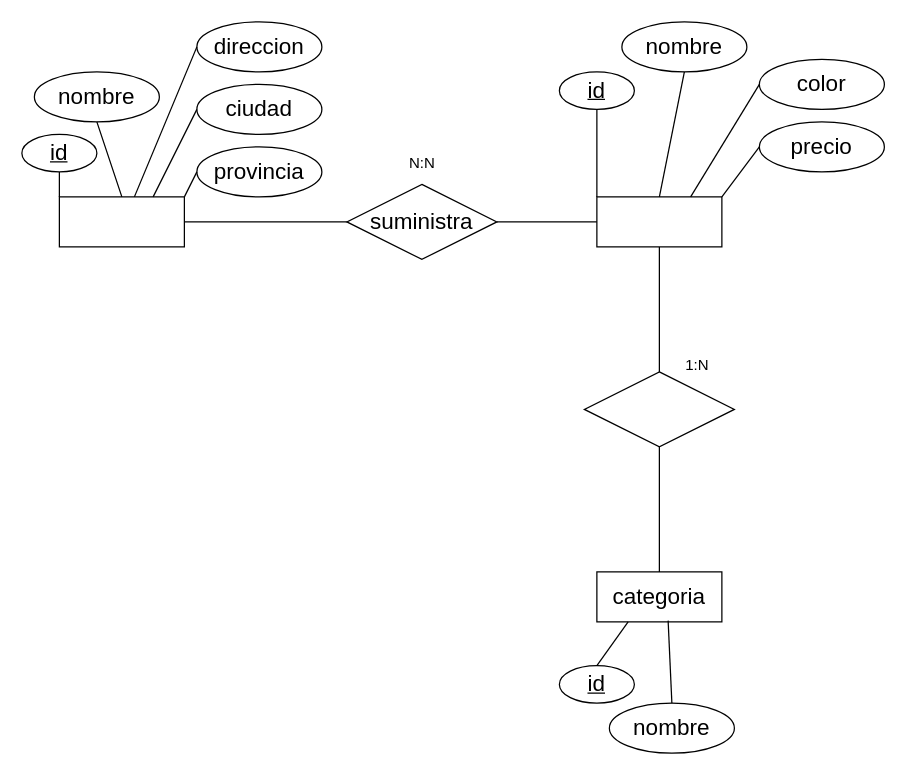
Some shapes in this 906 by 775 pixel diagram are drawn without their labels. Each missing label, with the centre of its shape:
pertenece: (x=658, y=409)
pieza: (x=659, y=221)
proveedor: (x=121, y=221)
